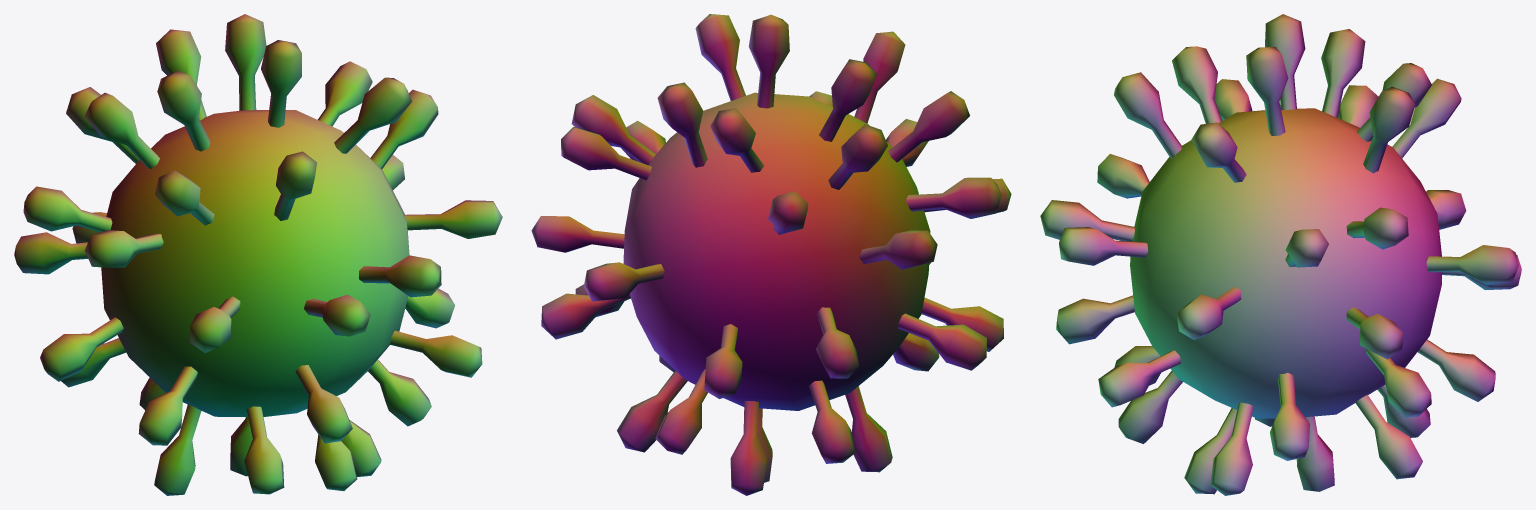
The model's file is microscopic-viruses-coronavirus_v4.glb.
3 views of the same model, side by side, from view 1: azimuth 30°, elevation 25°; view 2: azimuth 150°, elevation 25°; view 3: azimuth 270°, elevation 25° (orthographic).
Parts seen in each view (by area): view 1: Coronavirus_v4; view 2: Coronavirus_v4; view 3: Coronavirus_v4.
Boxes of the visible parts, x1=… form: Coronavirus_v4: x1=14, y1=14, x2=502, y2=495; Coronavirus_v4: x1=531, y1=14, x2=1011, y2=495; Coronavirus_v4: x1=1040, y1=14, x2=1521, y2=495.
Size of the model in its own units: 0.1143 by 0.12 by 0.1166.
